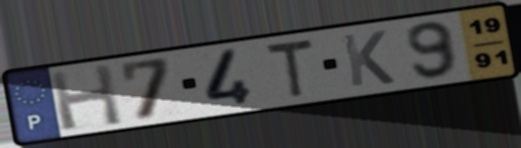4: (200, 45, 261, 109)
7: (119, 55, 177, 123)
9: (403, 19, 462, 81)
H: (45, 62, 126, 133)
K: (338, 28, 398, 89)
T: (262, 36, 317, 101)
